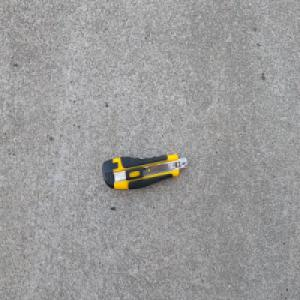Cutter: (101, 153, 188, 191)
